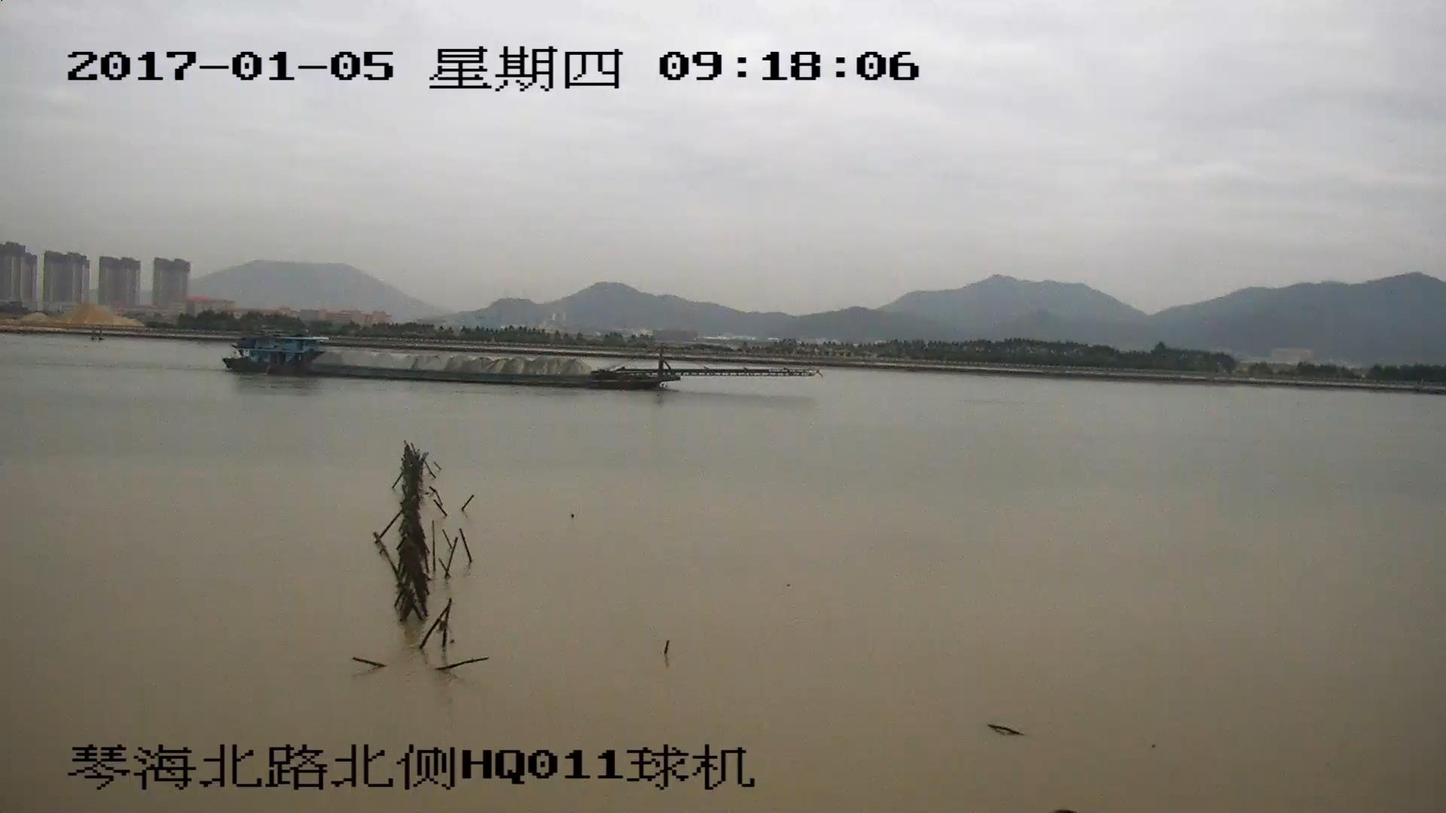ore carrier: (219, 333, 807, 388)
